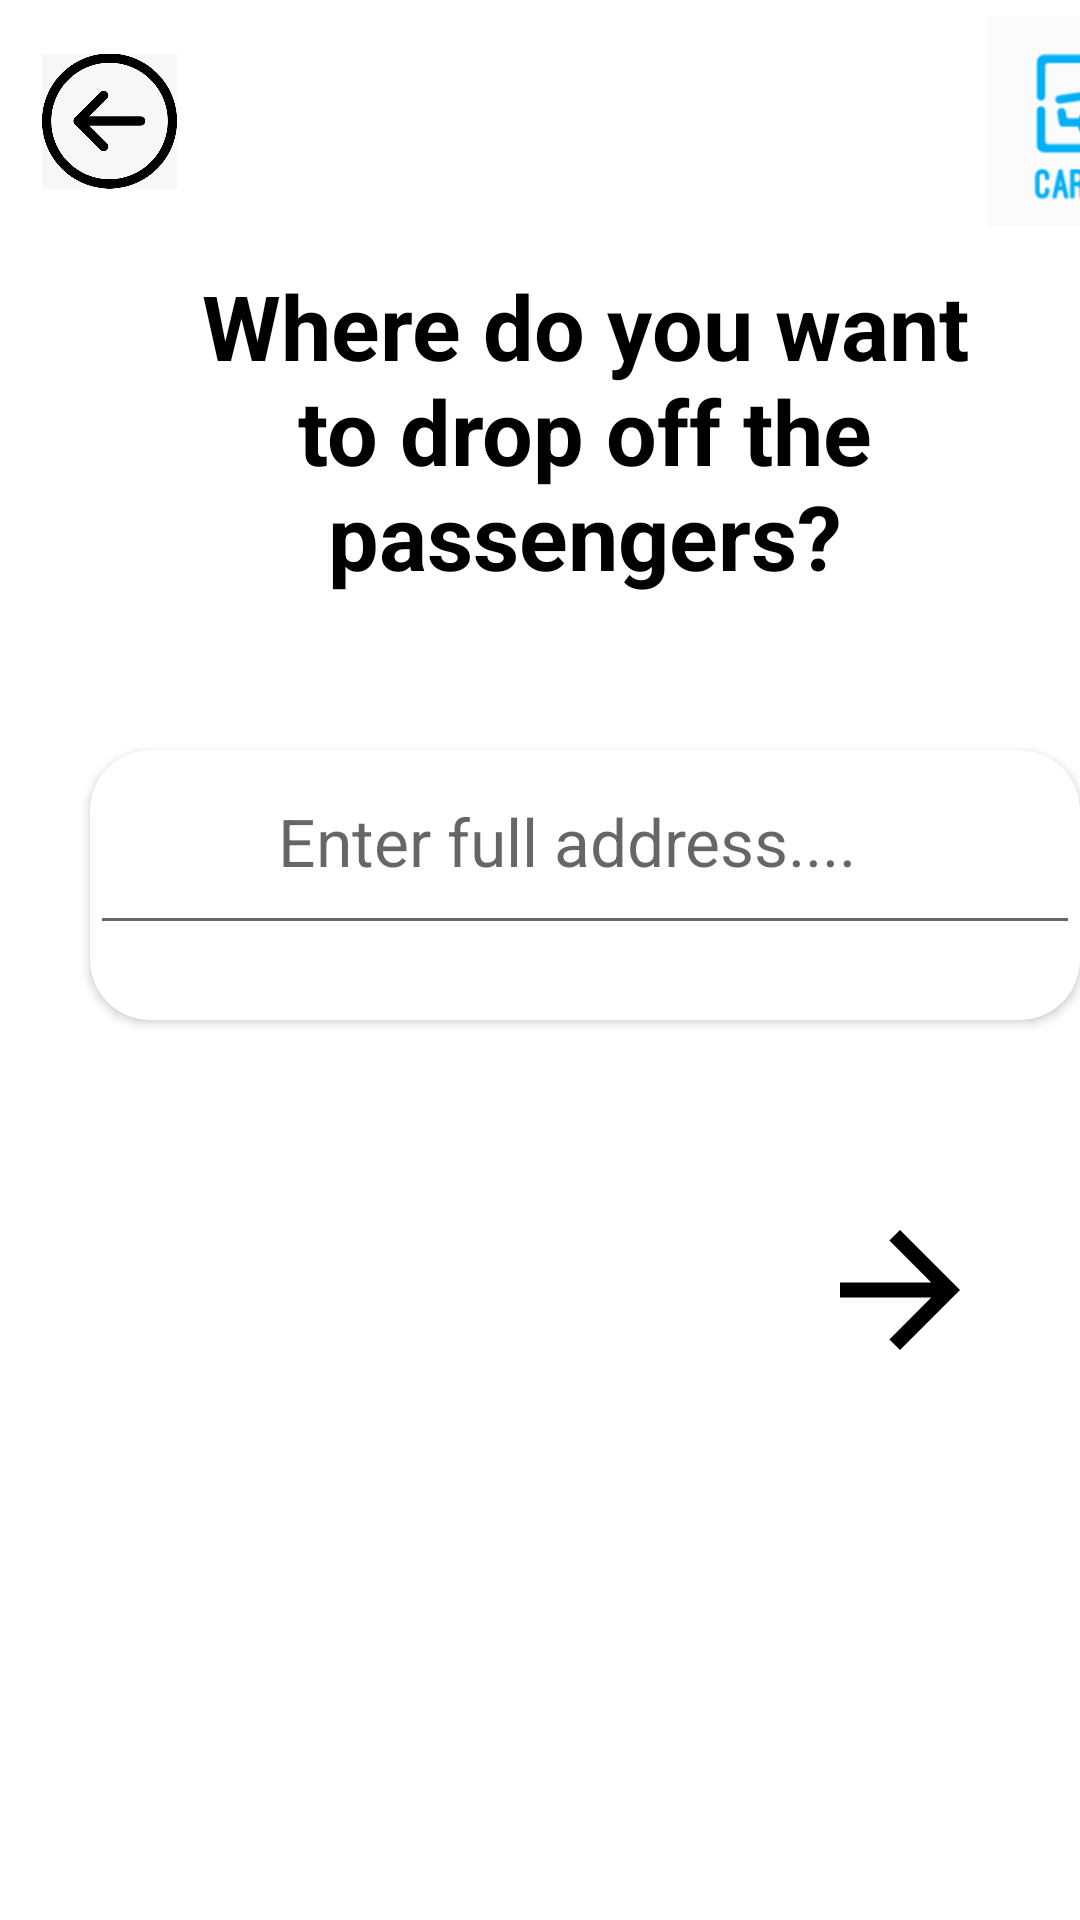

Screen size 1080*1920. Icon name, then its box in pixels as (x1, y1, x2, y2):
next arrow: (840, 1230, 960, 1350)
